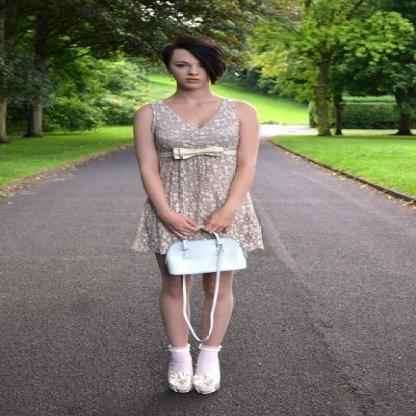bag: (162, 232, 245, 274)
dress: (128, 94, 271, 256)
shoe: (168, 341, 222, 393)
